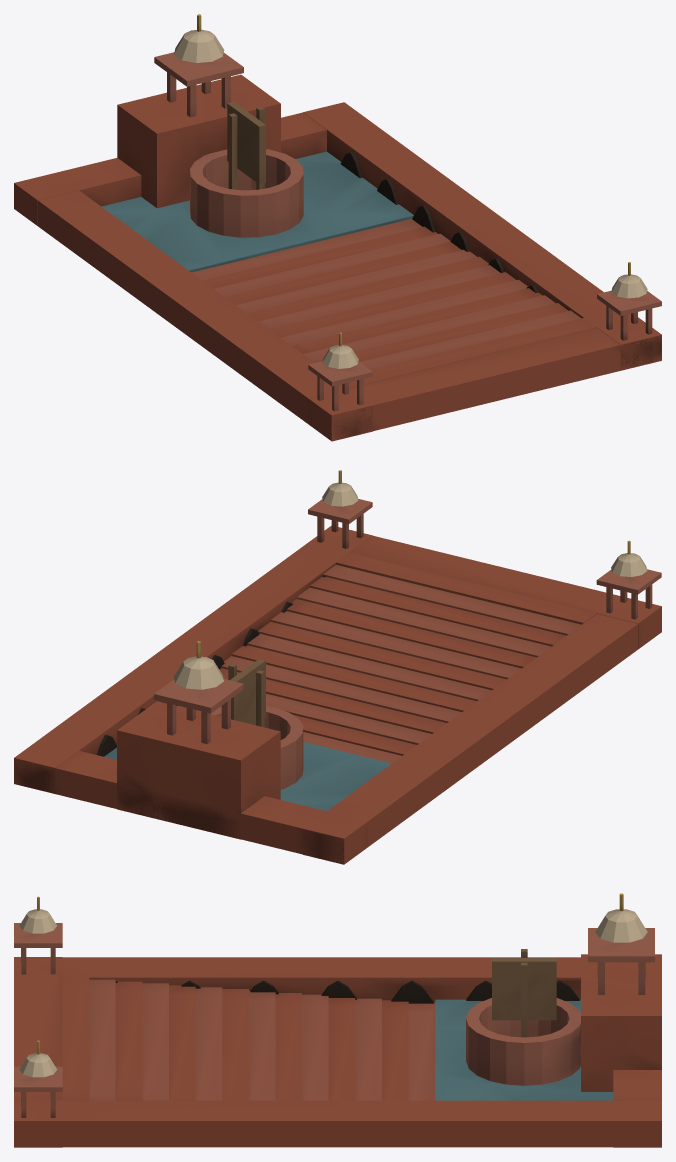
File: baoli.glb
3 renders of one model, top to bottom at view 1: azimuth 30°, elevation 25°; view 2: azimuth 150°, elevation 25°; view 3: azimuth 270°, elevation 25°, orthographic.
Visible parts, largest first — view 1: p0_rim and steps, p1_galleries and well-head, p2_kiosks; view 2: p0_rim and steps, p1_galleries and well-head, p2_kiosks; view 3: p0_rim and steps, p1_galleries and well-head, p2_kiosks.
Part boxes in pixels (left/top/right/bottom): p0_rim and steps: left=14, top=102, right=661, bottom=441; p1_galleries and well-head: left=117, top=74, right=538, bottom=292; p2_kiosks: left=154, top=14, right=661, bottom=411; p0_rim and steps: left=14, top=525, right=661, bottom=864; p1_galleries and well-head: left=97, top=575, right=325, bottom=839; p2_kiosks: left=154, top=470, right=661, bottom=743; p0_rim and steps: left=14, top=957, right=661, bottom=1147; p1_galleries and well-head: left=115, top=949, right=661, bottom=1091; p2_kiosks: left=14, top=893, right=654, bottom=1117.
Bounding box in the file's own units: 24.02 × 11.68 × 40.
